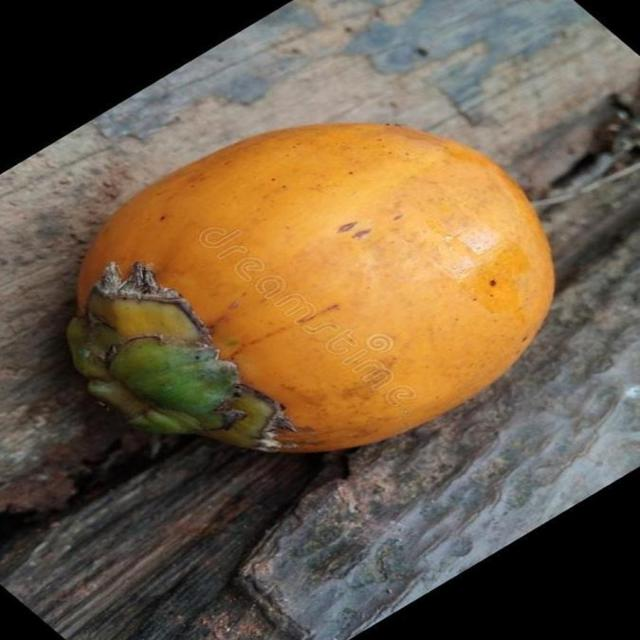good: (66, 124, 554, 452)
